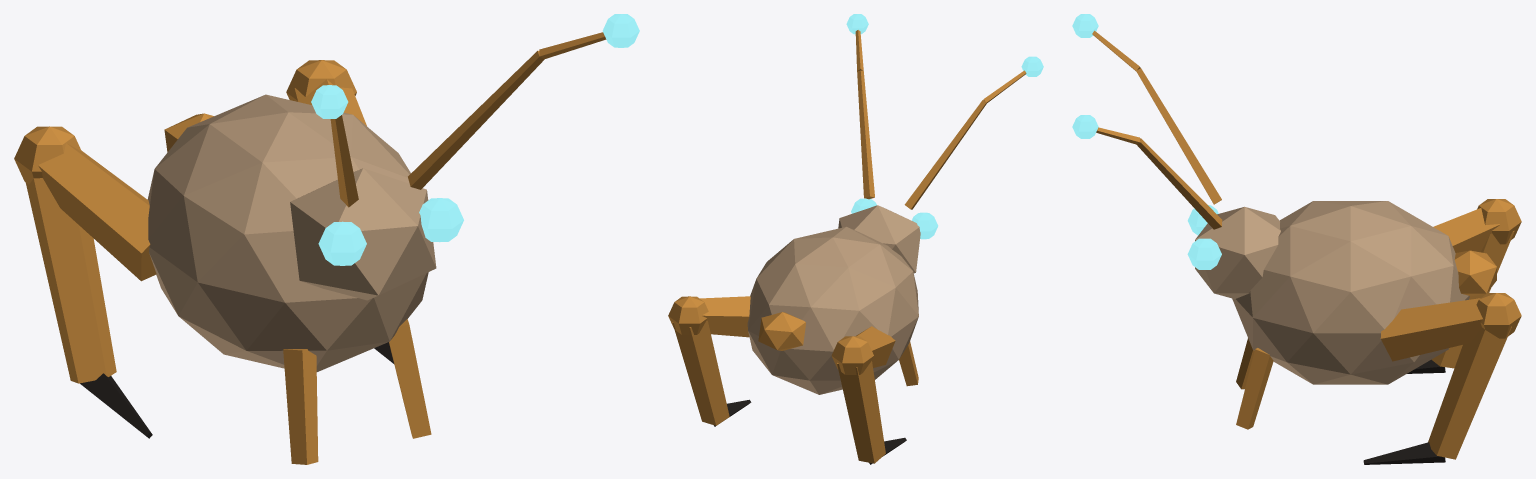
Rendered from exo-wild-hopper.glb.
The picture shows the model from 3 angles, left to right: view 1: azimuth 30°, elevation 25°; view 2: azimuth 150°, elevation 25°; view 3: azimuth 270°, elevation 25°; orthographic projection. The views are drawn at different scales.
Visible parts, largest first — view 1: body; view 2: body; view 3: body.
Part boxes in pixels (<box>): body: <box>14,14,639,464</box>; body: <box>668,14,1043,464</box>; body: <box>1072,14,1521,464</box>.
Bounding box in the file's own units: 1 × 1.48 × 1.69.
